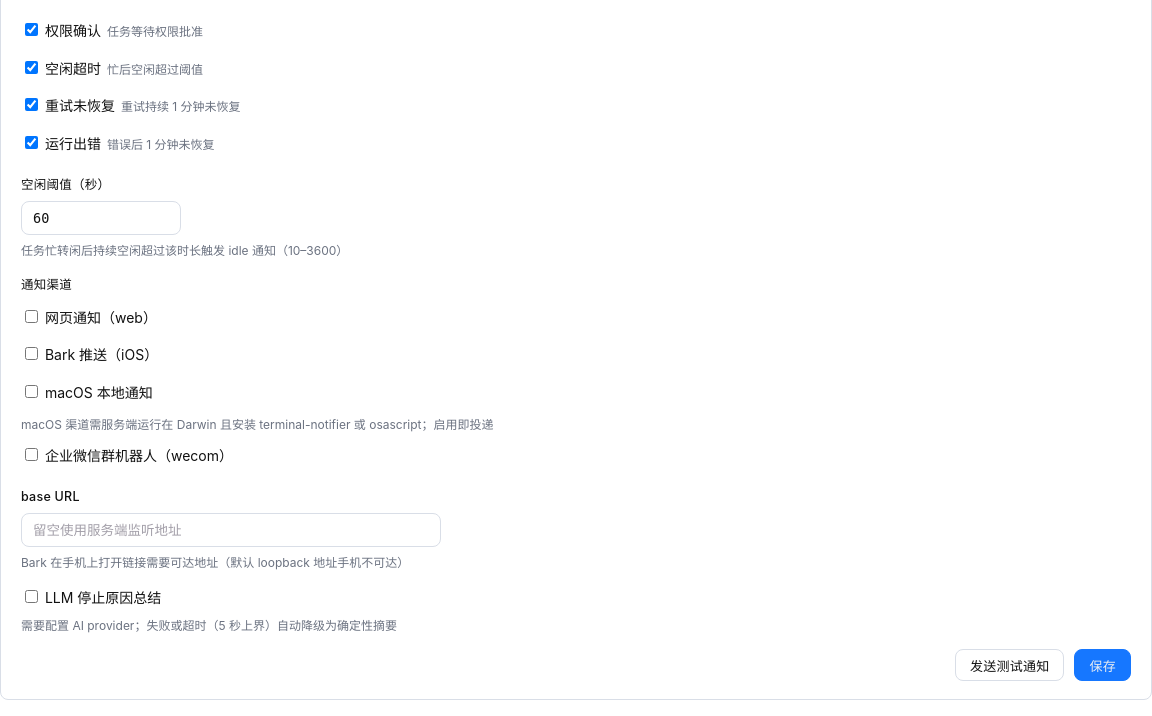
Test: NotificationConfigPanel › 总开关关闭时测试按钮禁用；开启时点击发送并渲染逐渠道结果
The width and height of the screenshot is (1152, 716).
(page scrolled)
What coordinates should you click on to do the following:
click the button "发送测试通知"
I would click on:
 (1010, 666)
Its box is [955, 650, 1064, 682].
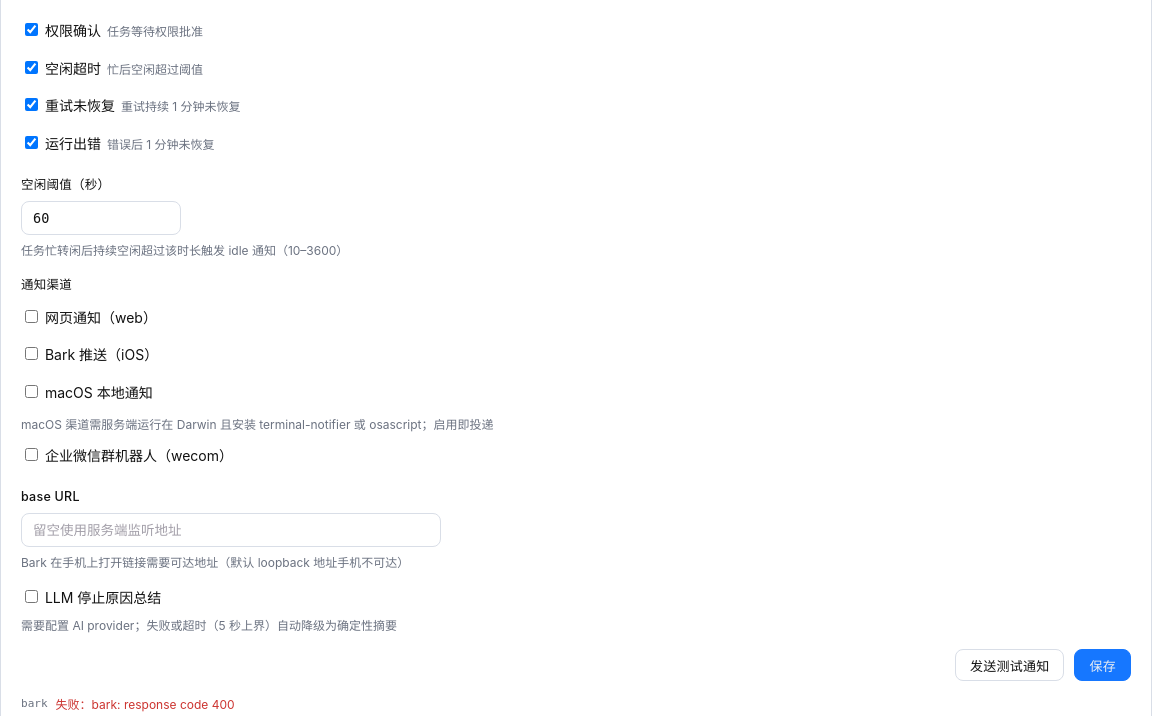
Expected: the text "Bark" is shown, [45, 346, 158, 364]
Now the text "失败：bark: response code 400" is shown, box [56, 696, 235, 715]
